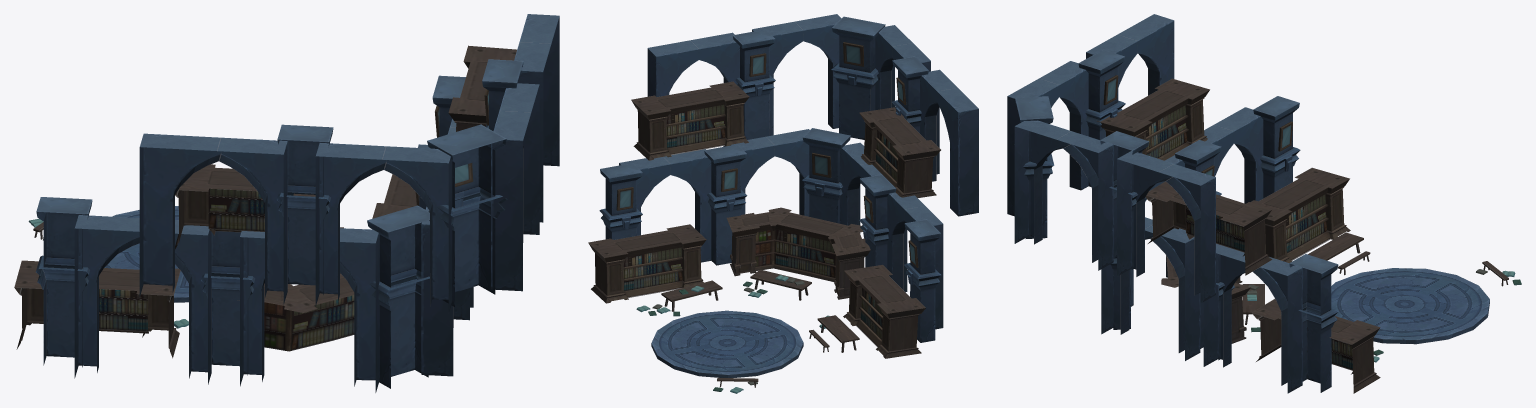
The model's file is Area_02_1.fbx.
3 renders of one model, left to right at view 1: azimuth 30°, elevation 25°; view 2: azimuth 150°, elevation 25°; view 3: azimuth 270°, elevation 25°, orthographic. The views are drawn at different scales.
Parts seen in each view (by area): view 1: Area_02_1; view 2: Area_02_1; view 3: Area_02_1.
Part boxes in pixels (x1,y1,x2,y2): Area_02_1: (14, 14, 559, 392); Area_02_1: (588, 14, 978, 393); Area_02_1: (1007, 14, 1521, 393).
Bounding box in the file's own units: 3927 × 2232 × 4707.
